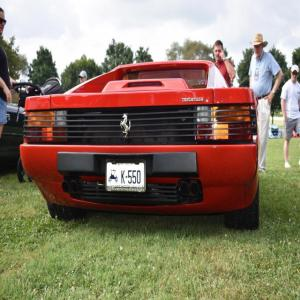Plate: (105, 159, 146, 192)
